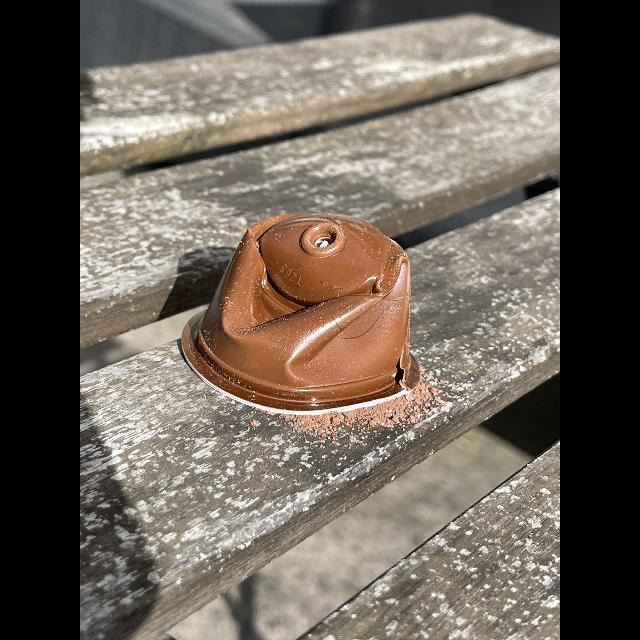damaged_capsule: (168, 200, 450, 422)
